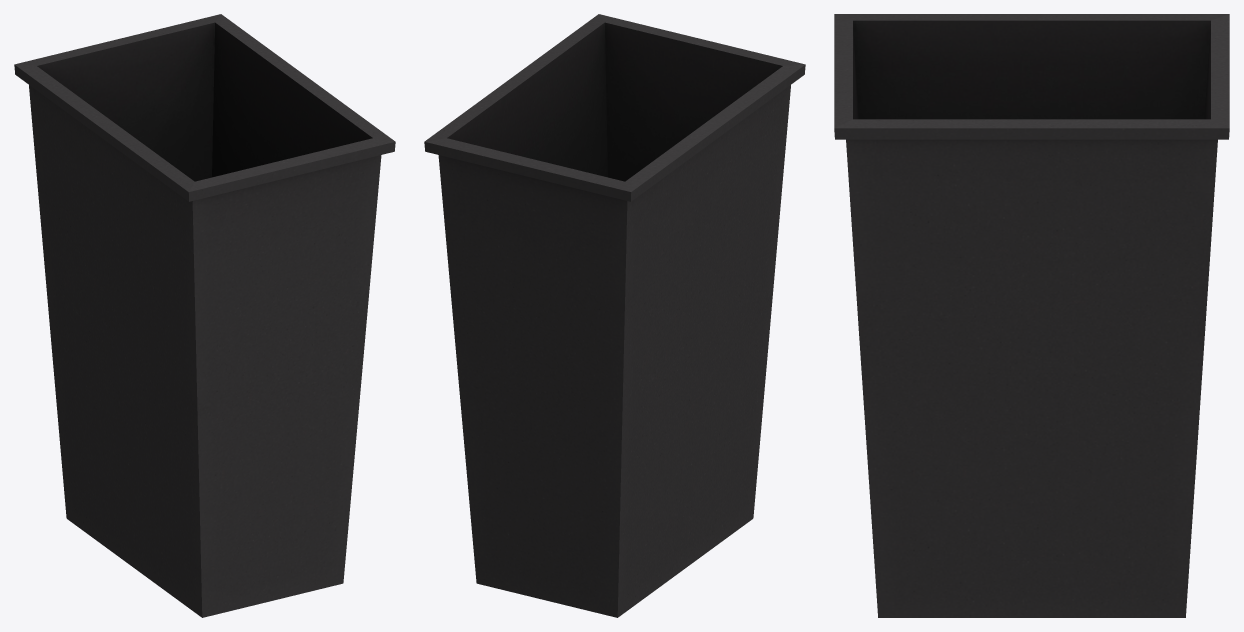
The model's file is Caneca generica.FBX.
The picture shows the model from 3 angles, left to right: view 1: azimuth 30°, elevation 25°; view 2: azimuth 150°, elevation 25°; view 3: azimuth 270°, elevation 25°; orthographic projection. The views are drawn at different scales.
Parts seen in each view (by area): view 1: Caneca_generica; view 2: Caneca_generica; view 3: Caneca_generica.
Part boxes in pixels (x1,y1,x2,y2): Caneca_generica: (14,14,395,617); Caneca_generica: (424,14,805,617); Caneca_generica: (834,14,1229,617).
Bounding box in the file's own units: 0.217 × 0.45 × 0.317.
1 material, 1 textured.
